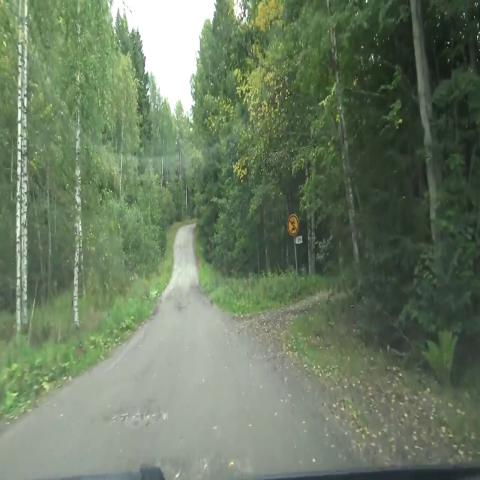pothole: (92, 401, 183, 432), (170, 295, 190, 324)
